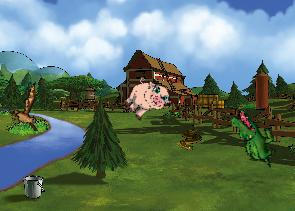crocodile: (219, 106, 288, 169)
eagle: (2, 82, 51, 138)
pig: (118, 71, 174, 127)
